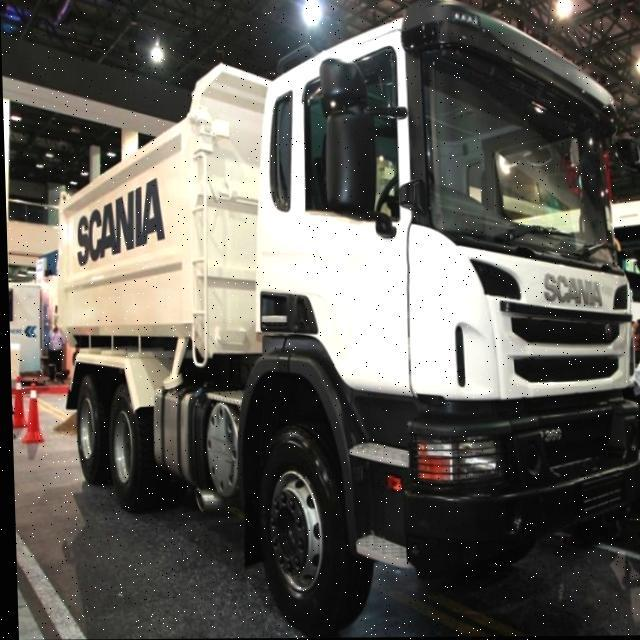truck: (47, 0, 640, 640)
